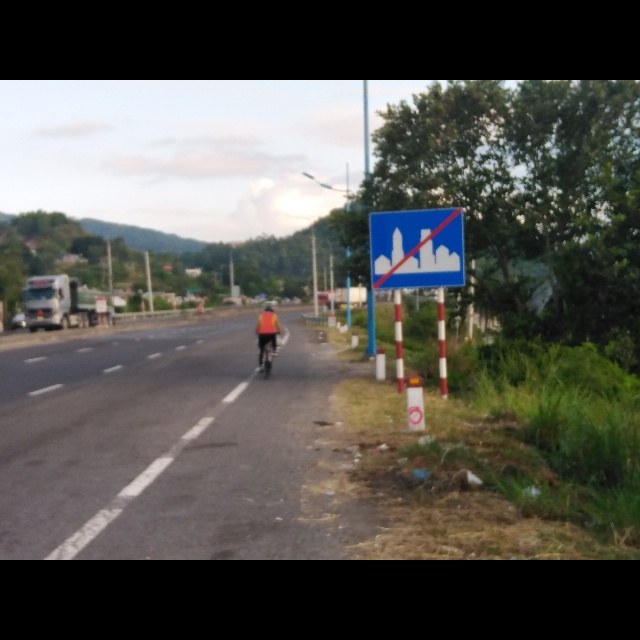Hết khu đông dân cư: (365, 208, 466, 292)
